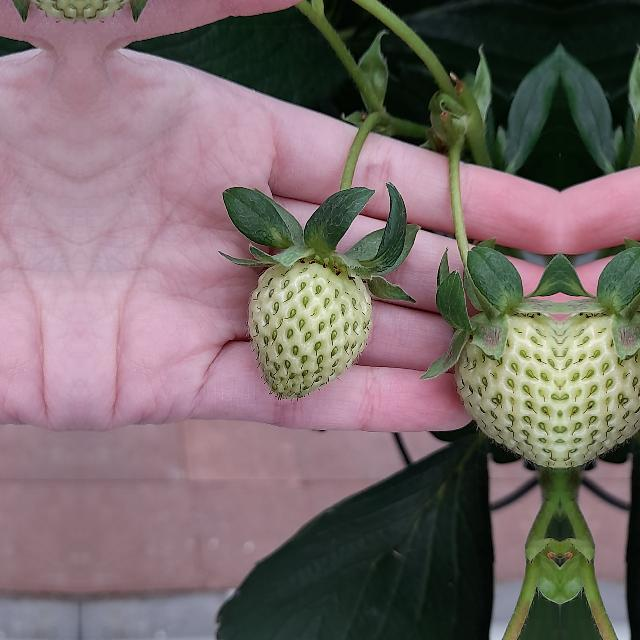Health_25: (453, 308, 559, 477), (248, 260, 372, 398), (561, 307, 640, 476)
